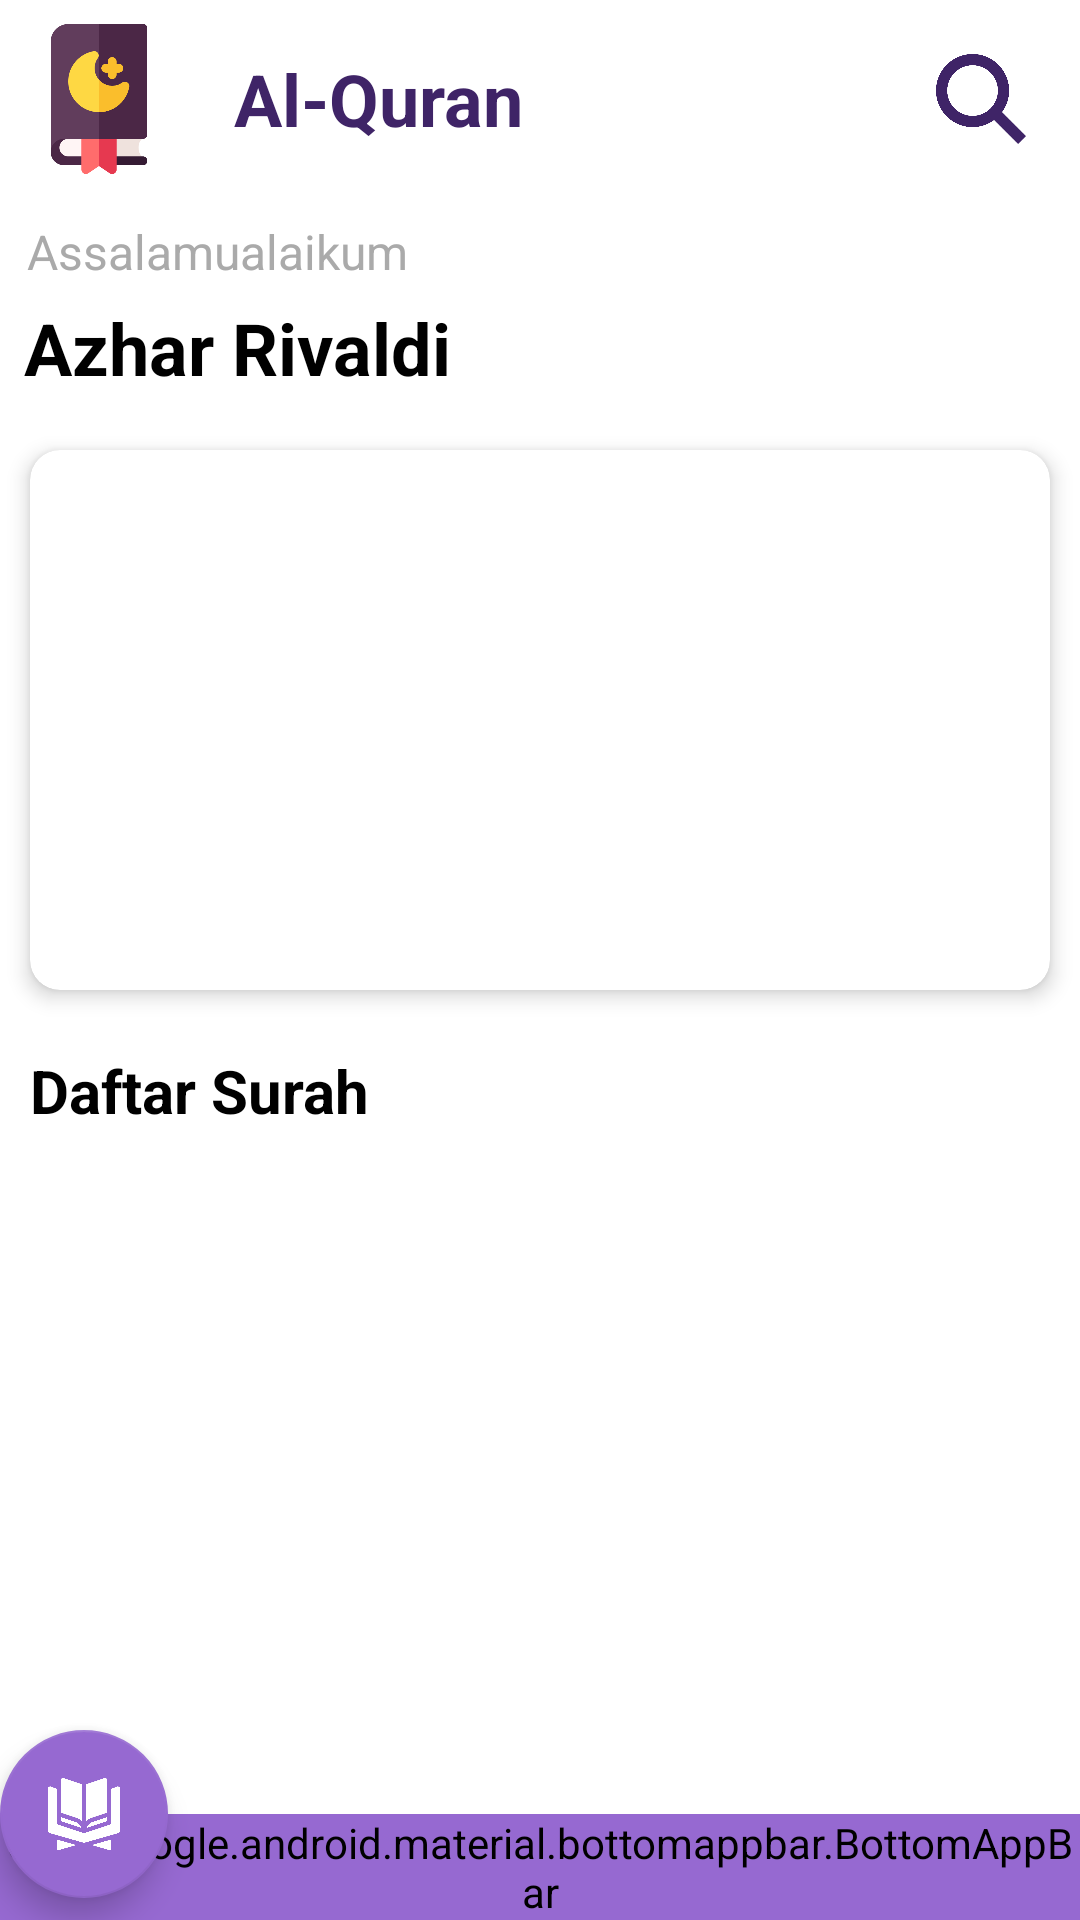

Icon click points for this 1080w x 1920h phone screenshot, format (x=x, y=y):
fab quran: (x=84, y=1814)
search: (x=981, y=99)
